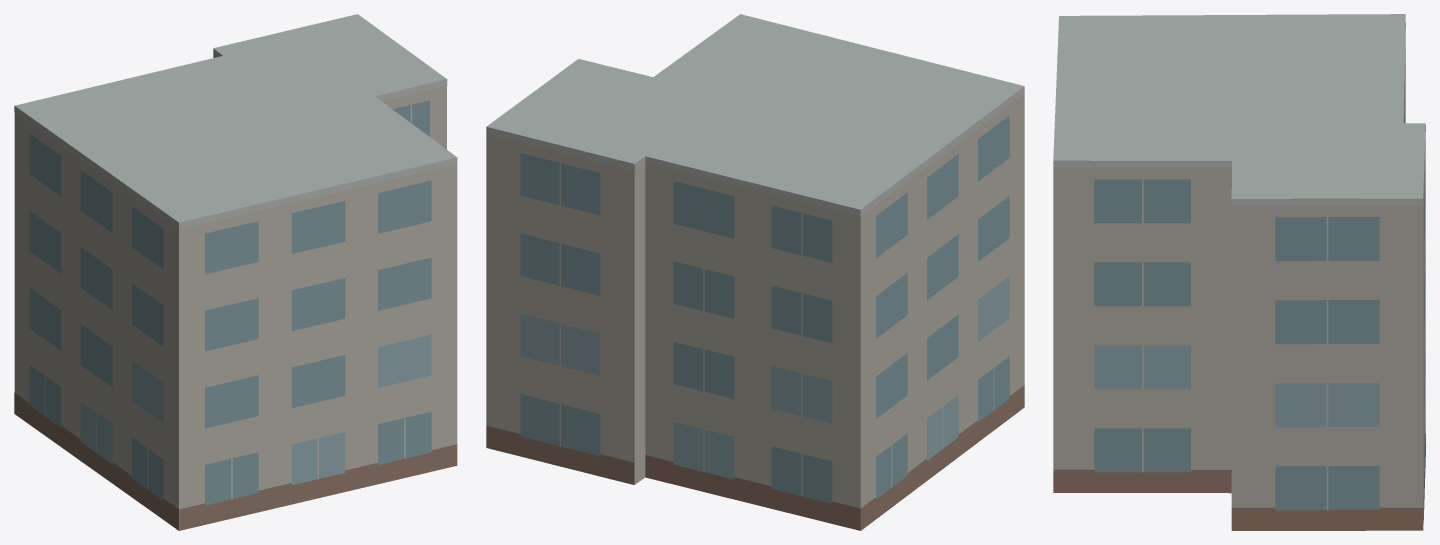
File: survey-upis-32598746.glb
3 views of the same model, side by side, from view 1: azimuth 30°, elevation 25°; view 2: azimuth 150°, elevation 25°; view 3: azimuth 270°, elevation 25° (orthographic). The views are drawn at different scales.
Parts seen in each view (by area): view 1: survey-upis-32598746.tmp; view 2: survey-upis-32598746.tmp; view 3: survey-upis-32598746.tmp.
Boxes of the visible parts, x1,y1,x2,y2 form: survey-upis-32598746.tmp: [14, 14, 457, 530]; survey-upis-32598746.tmp: [486, 14, 1024, 530]; survey-upis-32598746.tmp: [1053, 14, 1425, 530].
Bounding box in the file's own units: 13.38 × 11.2 × 11.4.
